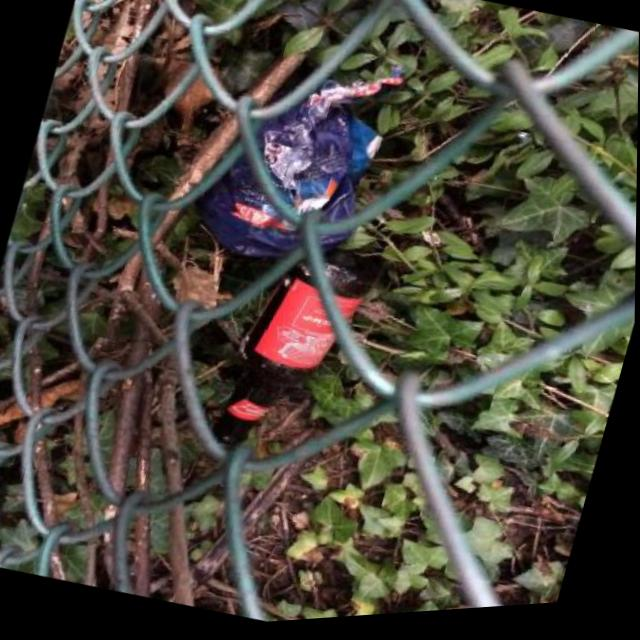glass: (195, 238, 375, 476)
plastic: (184, 33, 404, 287)
